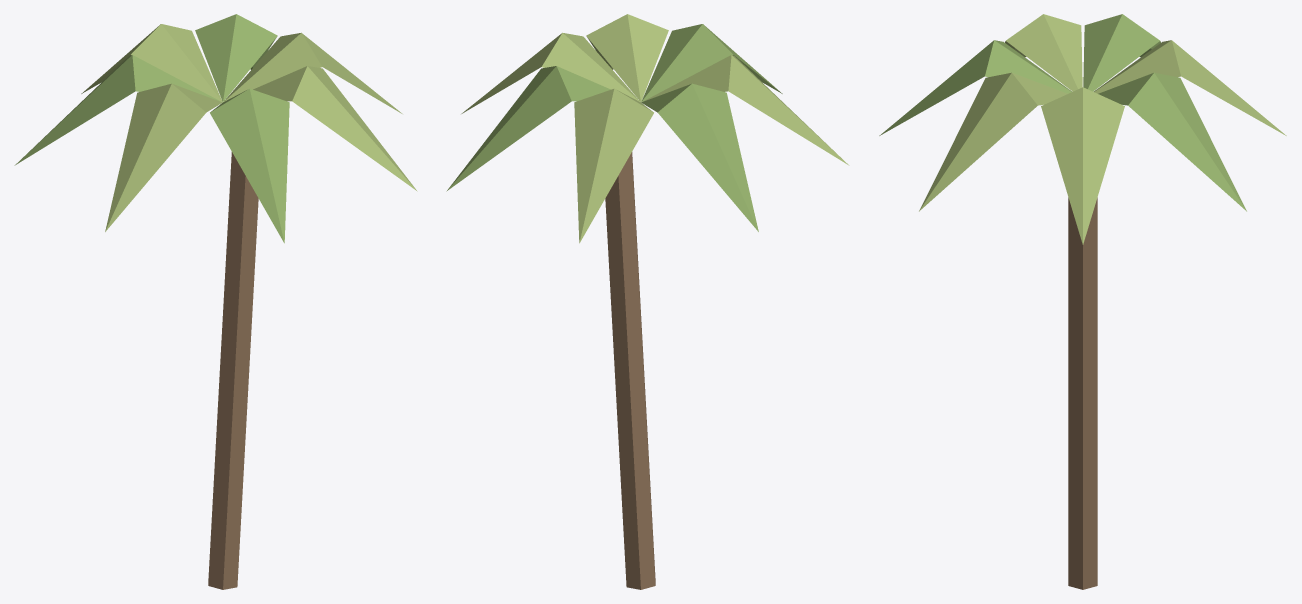
File: tree_areca.glb
3 renders of one model, left to right at view 1: azimuth 30°, elevation 25°; view 2: azimuth 150°, elevation 25°; view 3: azimuth 270°, elevation 25°, orthographic.
Visible parts, largest first — view 1: part_0, part_6, part_5, part_7, part_2, part_4, part_3, part_1; view 2: part_0, part_3, part_4, part_2, part_7, part_5, part_6, part_1; view 3: part_0, part_1, part_2, part_7, part_4, part_5, part_3, part_6.
Part boxes in pixels (left/top/right/bottom): part_0: left=208, top=152, right=258, bottom=589; part_6: left=210, top=88, right=289, bottom=243; part_5: left=105, top=83, right=222, bottom=231; part_7: left=253, top=66, right=417, bottom=191; part_2: left=195, top=14, right=277, bottom=101; part_4: left=14, top=55, right=221, bottom=165; part_3: left=81, top=24, right=222, bottom=101; part_1: left=224, top=32, right=402, bottom=113; part_0: left=605, top=152, right=655, bottom=589; part_3: left=574, top=88, right=653, bottom=243; part_4: left=641, top=83, right=758, bottom=231; part_2: left=446, top=66, right=610, bottom=191; part_7: left=586, top=14, right=668, bottom=101; part_5: left=642, top=55, right=849, bottom=165; part_6: left=641, top=24, right=782, bottom=101; part_1: left=461, top=32, right=639, bottom=113; part_0: left=1068, top=197, right=1097, bottom=589; part_1: left=1041, top=87, right=1124, bottom=244; part_2: left=1098, top=72, right=1246, bottom=211; part_7: left=919, top=72, right=1067, bottom=211; part_4: left=1083, top=14, right=1160, bottom=91; part_5: left=1005, top=14, right=1082, bottom=91; part_3: left=1094, top=40, right=1286, bottom=135; part_6: left=879, top=40, right=1071, bottom=135.
Bounding box in the file's own units: 2.85 × 4.21 × 2.92.
